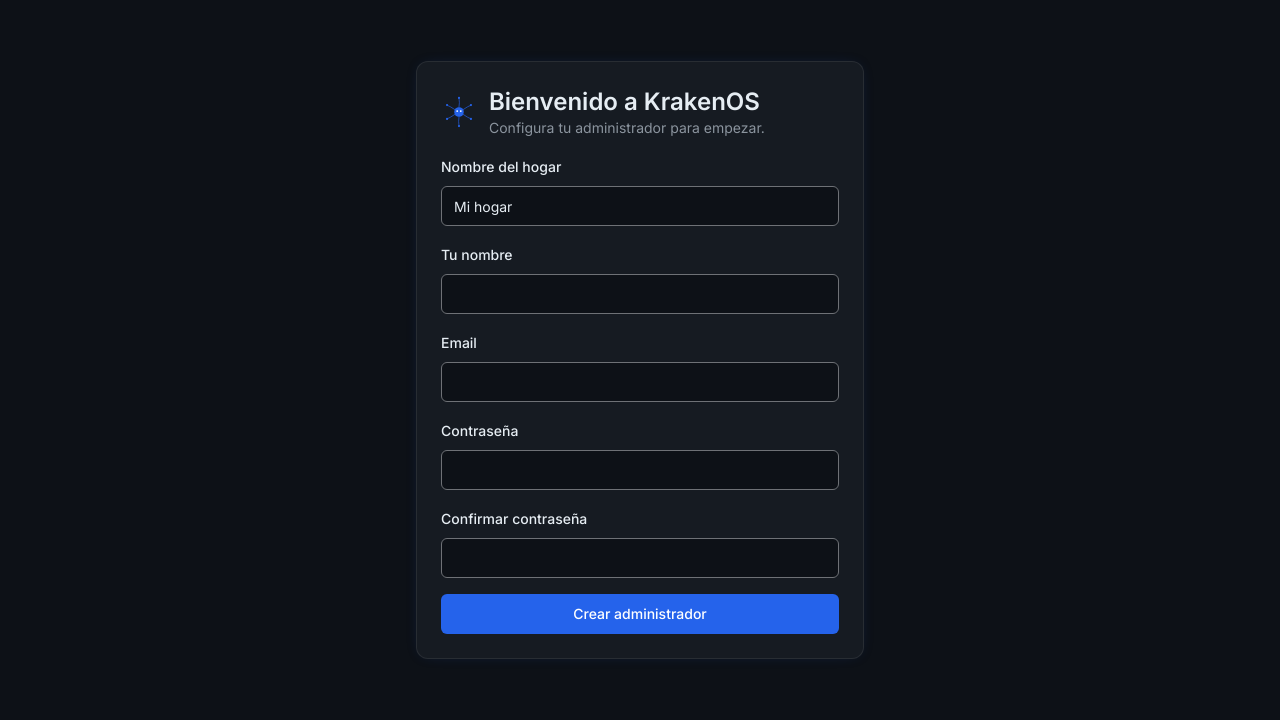
Test: SetupPage › error si la contraseña es demasiado corta
Type "Dueño" into the field labelled "Tu nombre" at (640, 294), box x1=441 y1=274 x2=839 y2=314
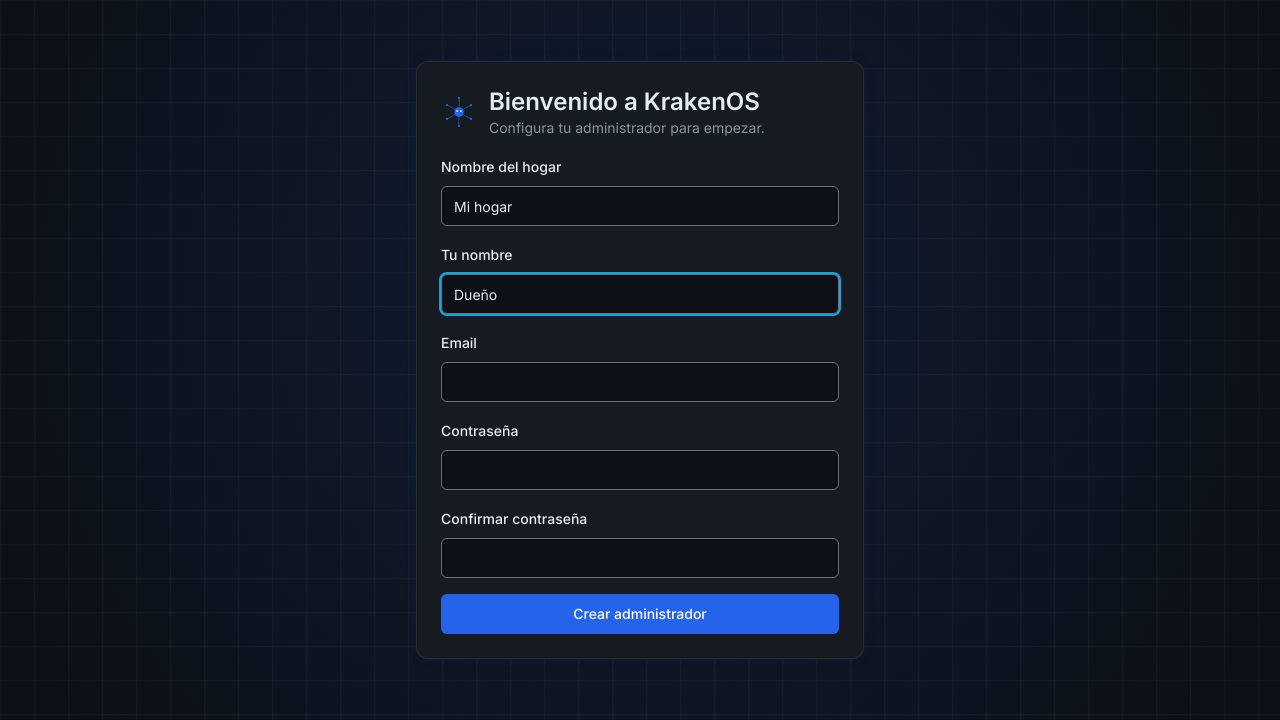
Type "o@k.test" into the field labelled "Email" at (640, 382), box x1=441 y1=362 x2=839 y2=402
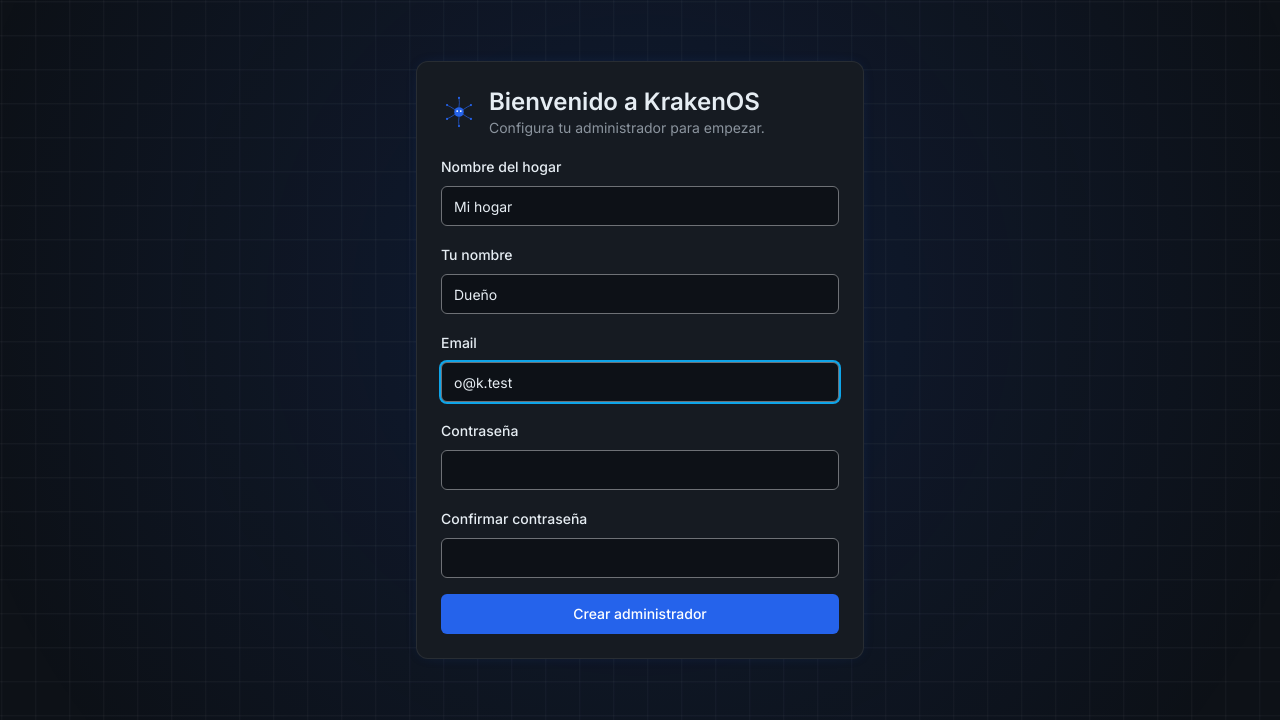
Type "corta" into the password field labelled "Contraseña" at (640, 470), box x1=441 y1=450 x2=839 y2=490
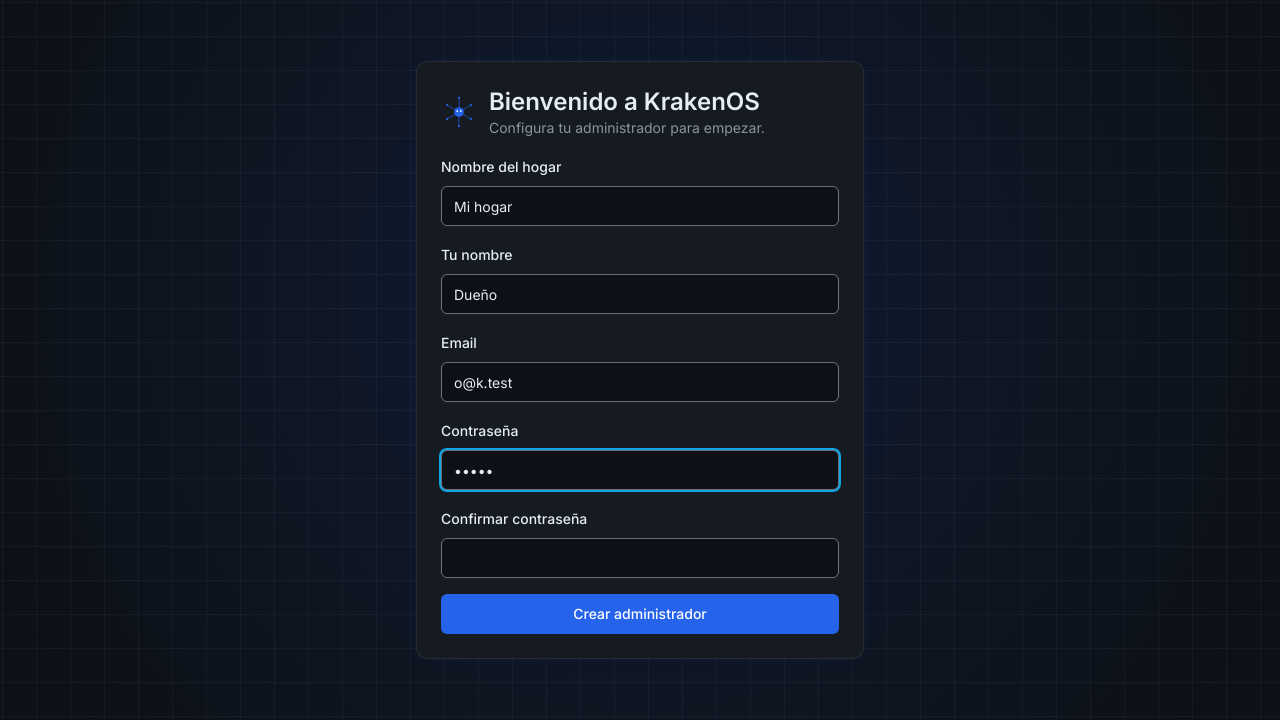
Type "corta" into the password field labelled "Confirmar contraseña" at (640, 558), box x1=441 y1=538 x2=839 y2=578
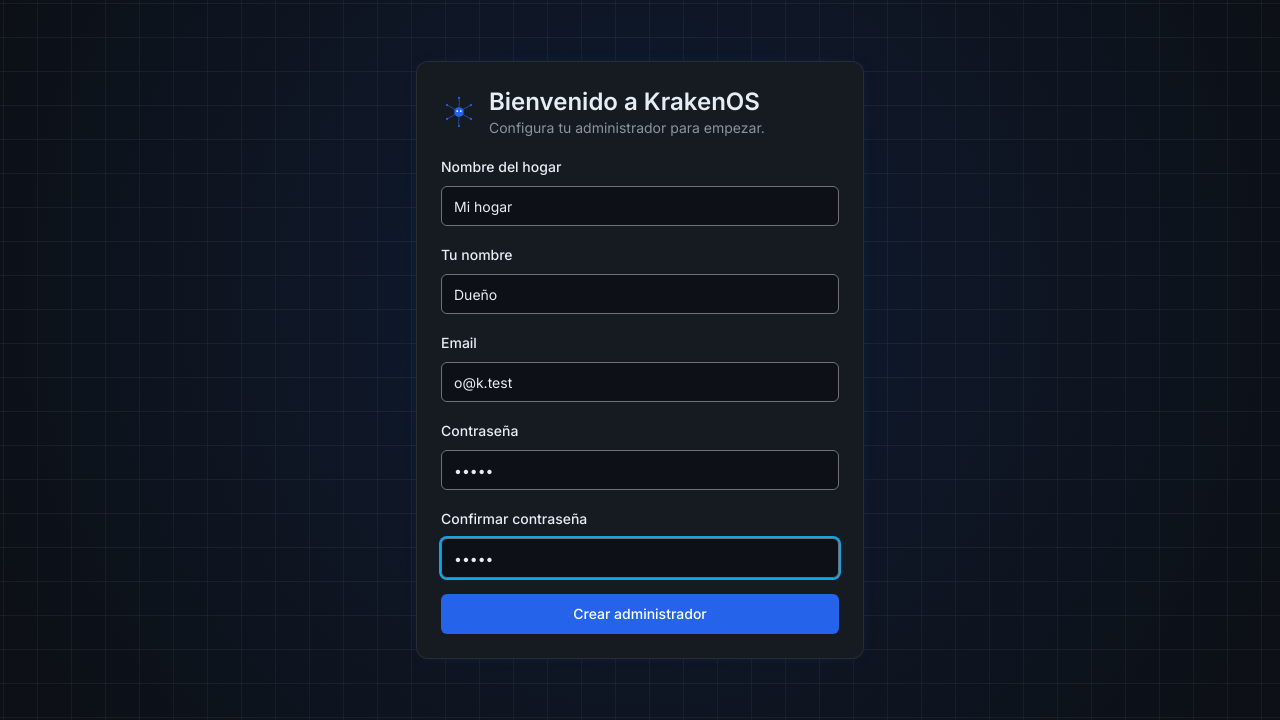
Click the button "Crear administrador" at (640, 614), box x1=441 y1=594 x2=839 y2=634
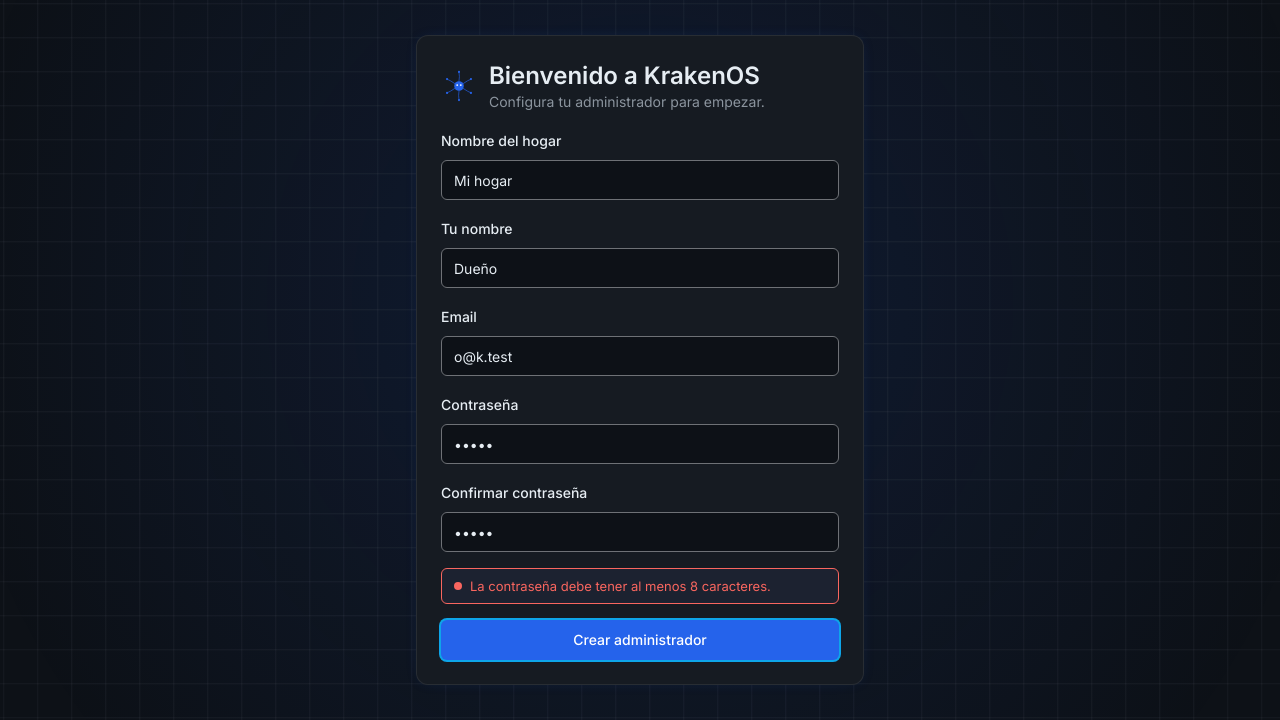
Expected: the text "La contraseña debe tener al menos 8 caracteres." is shown, x1=441 y1=568 x2=839 y2=604
